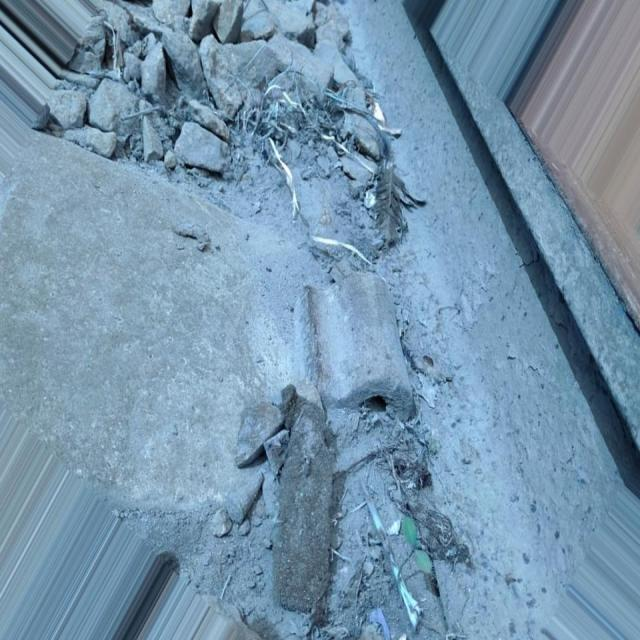Missing Fastener: (283, 262, 427, 478)
